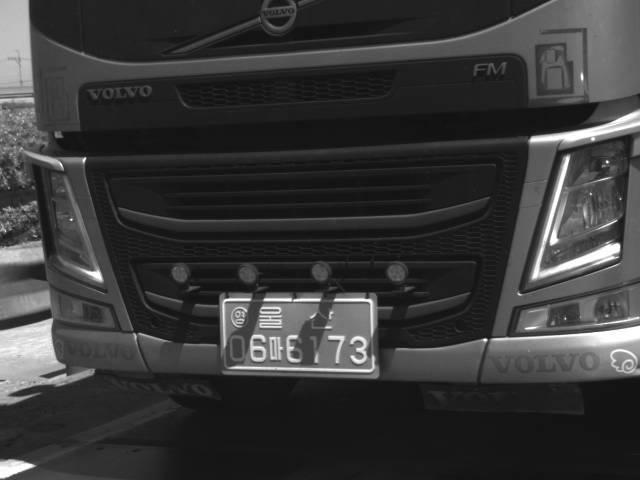car: (23, 1, 639, 415)
plate: (220, 296, 377, 376)
